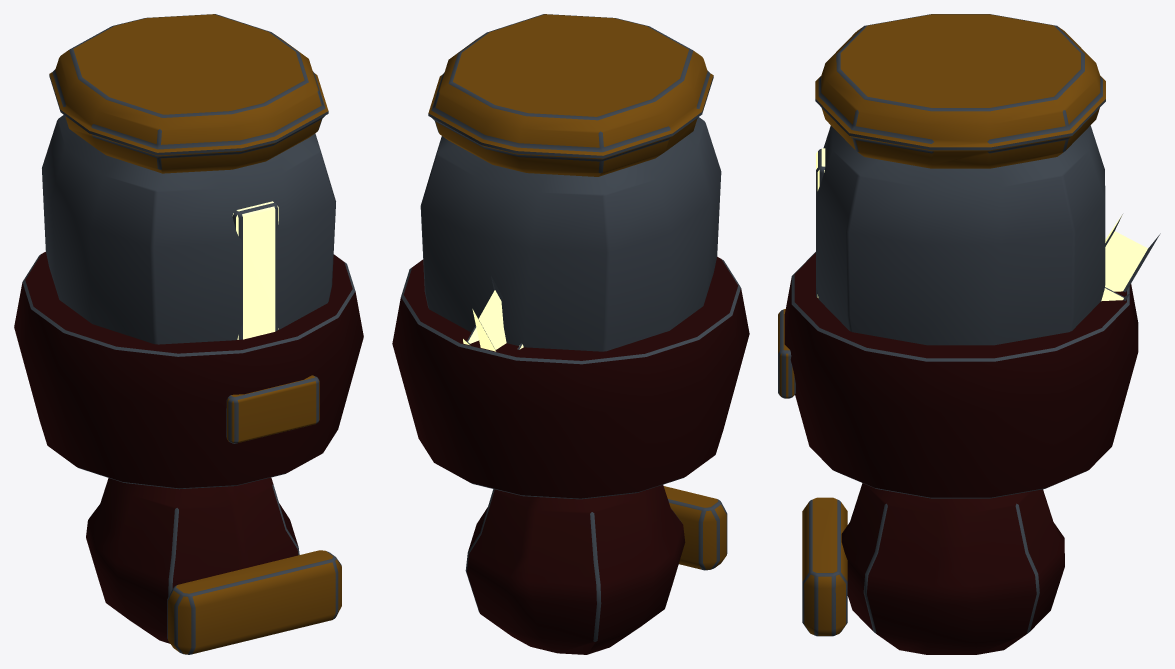
Rendered from Bastiao_LuvaL.fbx.
3 views of the same model, side by side, from view 1: azimuth 30°, elevation 25°; view 2: azimuth 150°, elevation 25°; view 3: azimuth 270°, elevation 25° (orthographic). The views are drawn at different scales.
Visible parts, largest first — view 1: Piece; view 2: Piece; view 3: Piece.
Boxes of the visible parts, x1=… form: Piece: x1=14, y1=14, x2=363, y2=654; Piece: x1=392, y1=14, x2=749, y2=654; Piece: x1=778, y1=14, x2=1160, y2=654.
Size of the model in its own units: 0.1962 by 0.3488 by 0.2116.
